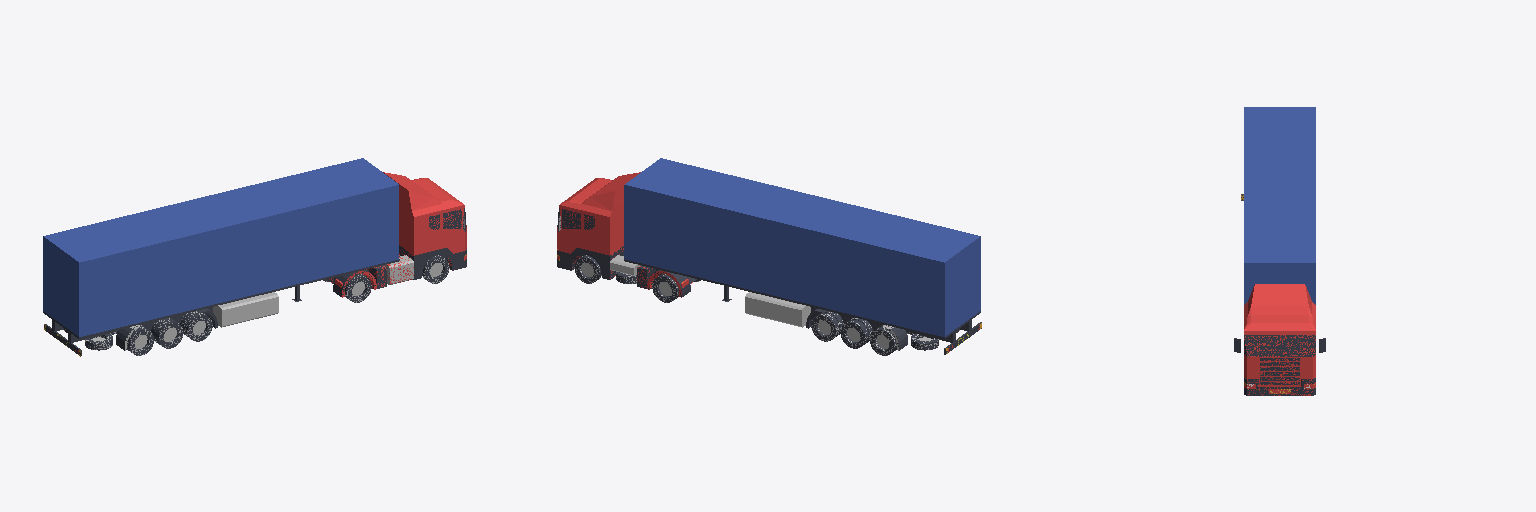
Rendered from truck.obj.
The picture shows the model from 3 angles: view 1: azimuth 30°, elevation 25°; view 2: azimuth 150°, elevation 25°; view 3: azimuth 270°, elevation 25°; orthographic projection.
Parts seen in each view (by area): view 1: group_14_ID647, group_6, Group_2_ID42, group_10_ID508, Group_2_ID54, group_13_ID636, group_3_ID34; view 2: group_14_ID647, group_6, Group_2_ID430, group_7_ID508, group_13_ID636, Group_2_ID442; view 3: group_14_ID647, group_6.
Part boxes in pixels (x1,y1,x2,y2): group_14_ID647: (43,158,398,336); group_6: (383,172,466,279); Group_2_ID42: (64,255,449,355); group_10_ID508: (213,292,278,327); Group_2_ID54: (91,263,442,348); group_13_ID636: (43,259,399,338); group_3_ID34: (384,255,413,284); group_14_ID647: (624,158,980,336); group_6: (557,172,640,279); Group_2_ID430: (574,255,896,355); group_7_ID508: (745,292,810,327); group_13_ID636: (624,259,980,338); Group_2_ID442: (581,263,888,348); group_14_ID647: (1244,107,1315,304); group_6: (1244,284,1315,395).
Bounding box in the file's own units: 473 × 125 × 96.76.